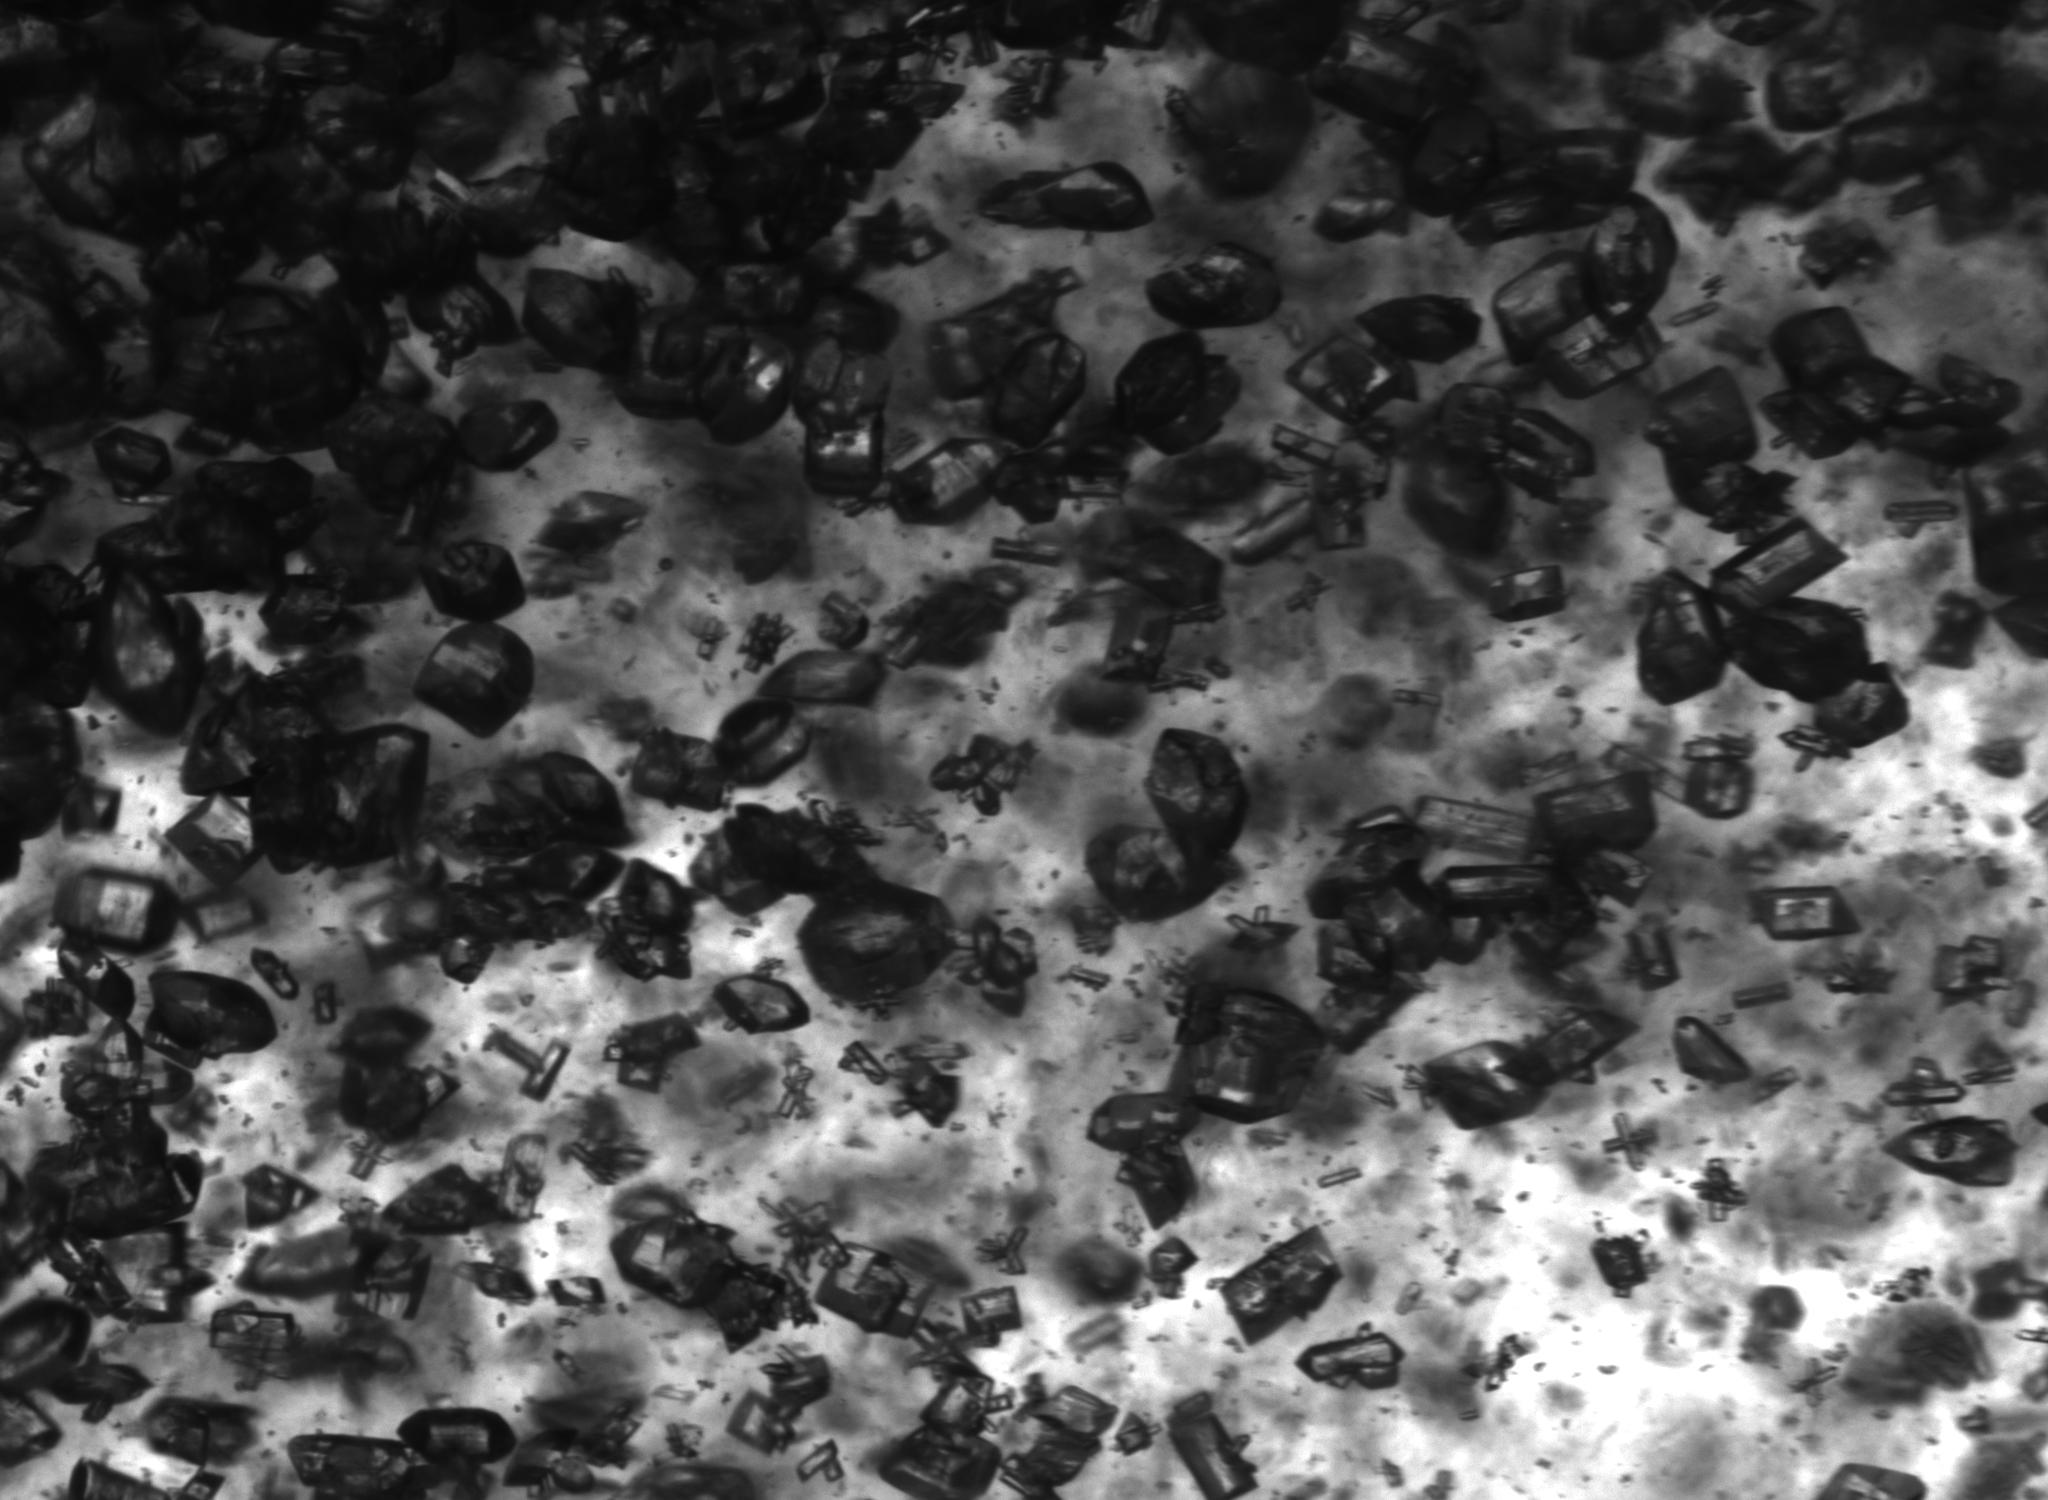crystal: (24, 94, 351, 302), (0, 1021, 200, 1309), (183, 655, 429, 872), (148, 282, 391, 453), (1765, 307, 2019, 468), (1493, 196, 1678, 398), (1084, 729, 1248, 921), (102, 460, 323, 593), (611, 1214, 814, 1350), (614, 302, 798, 444), (1644, 367, 1792, 544), (439, 845, 623, 983), (798, 861, 954, 1010), (1229, 426, 1388, 566), (690, 800, 881, 915), (1169, 986, 1325, 1123), (1453, 129, 1638, 243), (239, 1210, 431, 1320), (326, 388, 460, 544), (450, 752, 630, 867), (336, 1007, 455, 1179), (1426, 383, 1593, 503), (89, 571, 207, 736), (534, 102, 671, 242), (1312, 19, 1471, 138), (1107, 332, 1240, 455), (0, 283, 107, 434), (1086, 1091, 1200, 1228), (1725, 598, 1872, 703), (792, 342, 887, 498), (1215, 1228, 1340, 1344), (0, 555, 94, 708), (0, 698, 78, 881), (412, 622, 534, 738), (1964, 436, 2048, 600), (429, 164, 576, 258), (1709, 517, 1846, 617), (518, 267, 639, 379), (143, 969, 277, 1069), (999, 1387, 1116, 1500), (708, 29, 825, 138), (1344, 859, 1455, 973), (978, 162, 1153, 232), (983, 332, 1086, 450), (1638, 571, 1728, 705), (1145, 243, 1283, 331), (991, 436, 1127, 523), (1409, 1040, 1542, 1129), (1781, 665, 1908, 757), (1286, 336, 1414, 428), (816, 1242, 937, 1338), (407, 274, 520, 375), (1099, 515, 1221, 609), (596, 862, 693, 980), (1530, 771, 1655, 862), (1402, 107, 1504, 215), (99, 1225, 210, 1323), (886, 437, 1008, 525), (54, 870, 175, 956), (1498, 1010, 1631, 1086), (727, 1357, 830, 1455), (288, 1433, 439, 1500), (355, 0, 460, 95), (1407, 794, 1546, 865), (878, 1420, 1000, 1500), (164, 792, 262, 889), (382, 1164, 512, 1238), (1169, 1393, 1258, 1500), (1838, 108, 1962, 183), (1886, 1117, 2016, 1187), (712, 698, 813, 787), (1547, 829, 1655, 910), (1356, 294, 1480, 364), (420, 541, 526, 622), (1431, 865, 1588, 919), (700, 261, 825, 328), (0, 1298, 91, 1390), (930, 736, 1035, 816), (755, 649, 887, 711), (630, 729, 727, 811), (805, 105, 922, 172), (455, 399, 560, 474), (0, 426, 65, 546), (1320, 977, 1418, 1055), (536, 492, 647, 560), (1097, 597, 1178, 689), (143, 1398, 250, 1468), (603, 1015, 700, 1091), (48, 1352, 151, 1424), (210, 1303, 301, 1384), (1765, 54, 1857, 134), (960, 918, 1037, 1013), (259, 576, 353, 651), (1296, 1328, 1404, 1390), (57, 938, 137, 1023), (399, 1408, 515, 1465), (992, 0, 1126, 49), (922, 1362, 1010, 1436), (770, 1199, 855, 1274), (854, 202, 948, 270), (482, 1029, 569, 1101), (1749, 886, 1860, 942), (92, 428, 173, 503), (712, 973, 811, 1034), (1682, 736, 1754, 819), (1312, 927, 1394, 997), (1934, 937, 2015, 1005), (1671, 1016, 1749, 1086), (1706, 0, 1817, 48), (994, 54, 1064, 127), (266, 30, 361, 83), (192, 0, 328, 37), (181, 888, 267, 943), (495, 1133, 545, 1225), (894, 1056, 959, 1128), (1485, 565, 1566, 622), (242, 1166, 313, 1230), (60, 1460, 172, 1500), (502, 1428, 577, 1487), (1883, 1058, 1965, 1110), (0, 1390, 57, 1463), (579, 1398, 638, 1468), (1814, 1463, 1926, 1500), (22, 978, 89, 1039), (1622, 923, 1681, 991), (1315, 194, 1399, 242), (1224, 905, 1304, 954), (1992, 593, 2048, 659), (1590, 1236, 1647, 1296), (738, 614, 795, 673), (1692, 1160, 1747, 1220), (957, 1287, 1021, 1338), (1603, 1115, 1658, 1171), (1146, 1238, 1197, 1298), (1883, 498, 1959, 536), (471, 1260, 536, 1304), (978, 1222, 1030, 1276), (819, 593, 870, 649), (1477, 1335, 1528, 1390), (1111, 0, 1170, 48), (250, 950, 301, 1001), (991, 533, 1067, 566), (774, 1058, 814, 1121), (1819, 961, 1894, 994), (838, 1042, 892, 1086), (1872, 1268, 1932, 1304), (795, 1440, 844, 1484), (550, 1454, 596, 1494), (547, 1276, 604, 1308), (1113, 1414, 1156, 1455), (1730, 983, 1790, 1010), (173, 1470, 224, 1500), (1059, 966, 1111, 993), (310, 983, 342, 1024), (2024, 797, 2048, 830), (2031, 1102, 2048, 1128)
